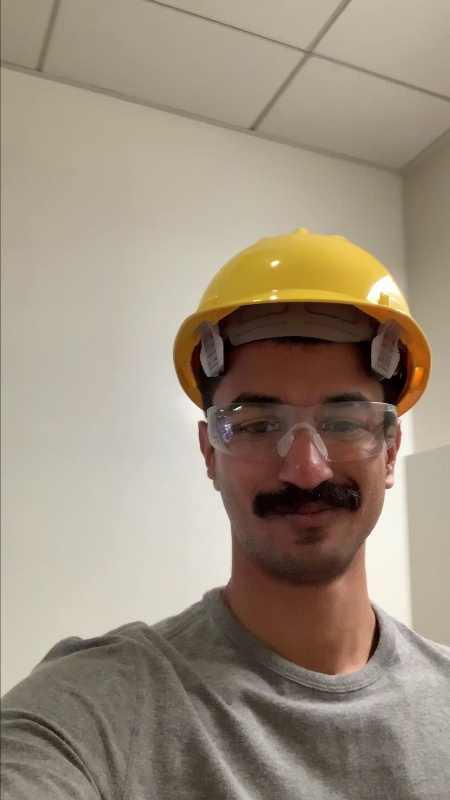glasses: (201, 393, 397, 453)
helmet: (178, 227, 418, 330)
